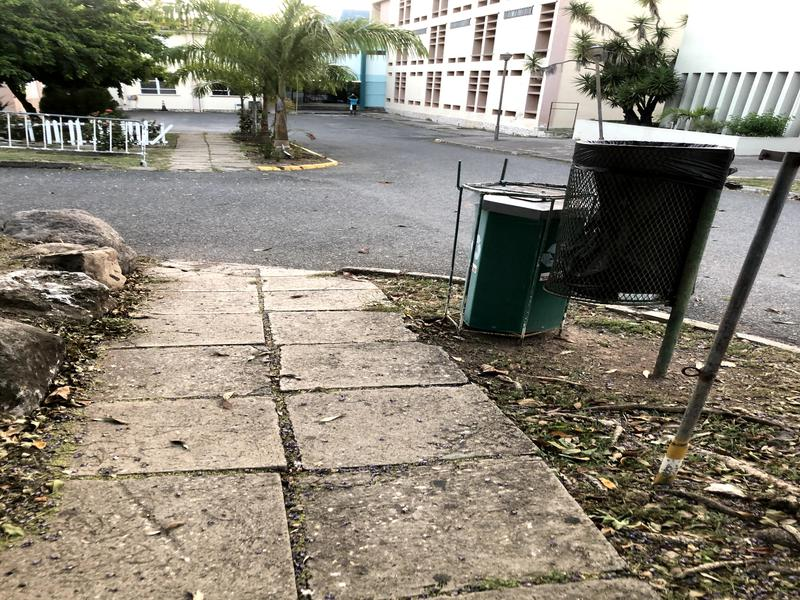18.0053245_-76.7486424_recyclebin: (451, 163, 575, 373)
